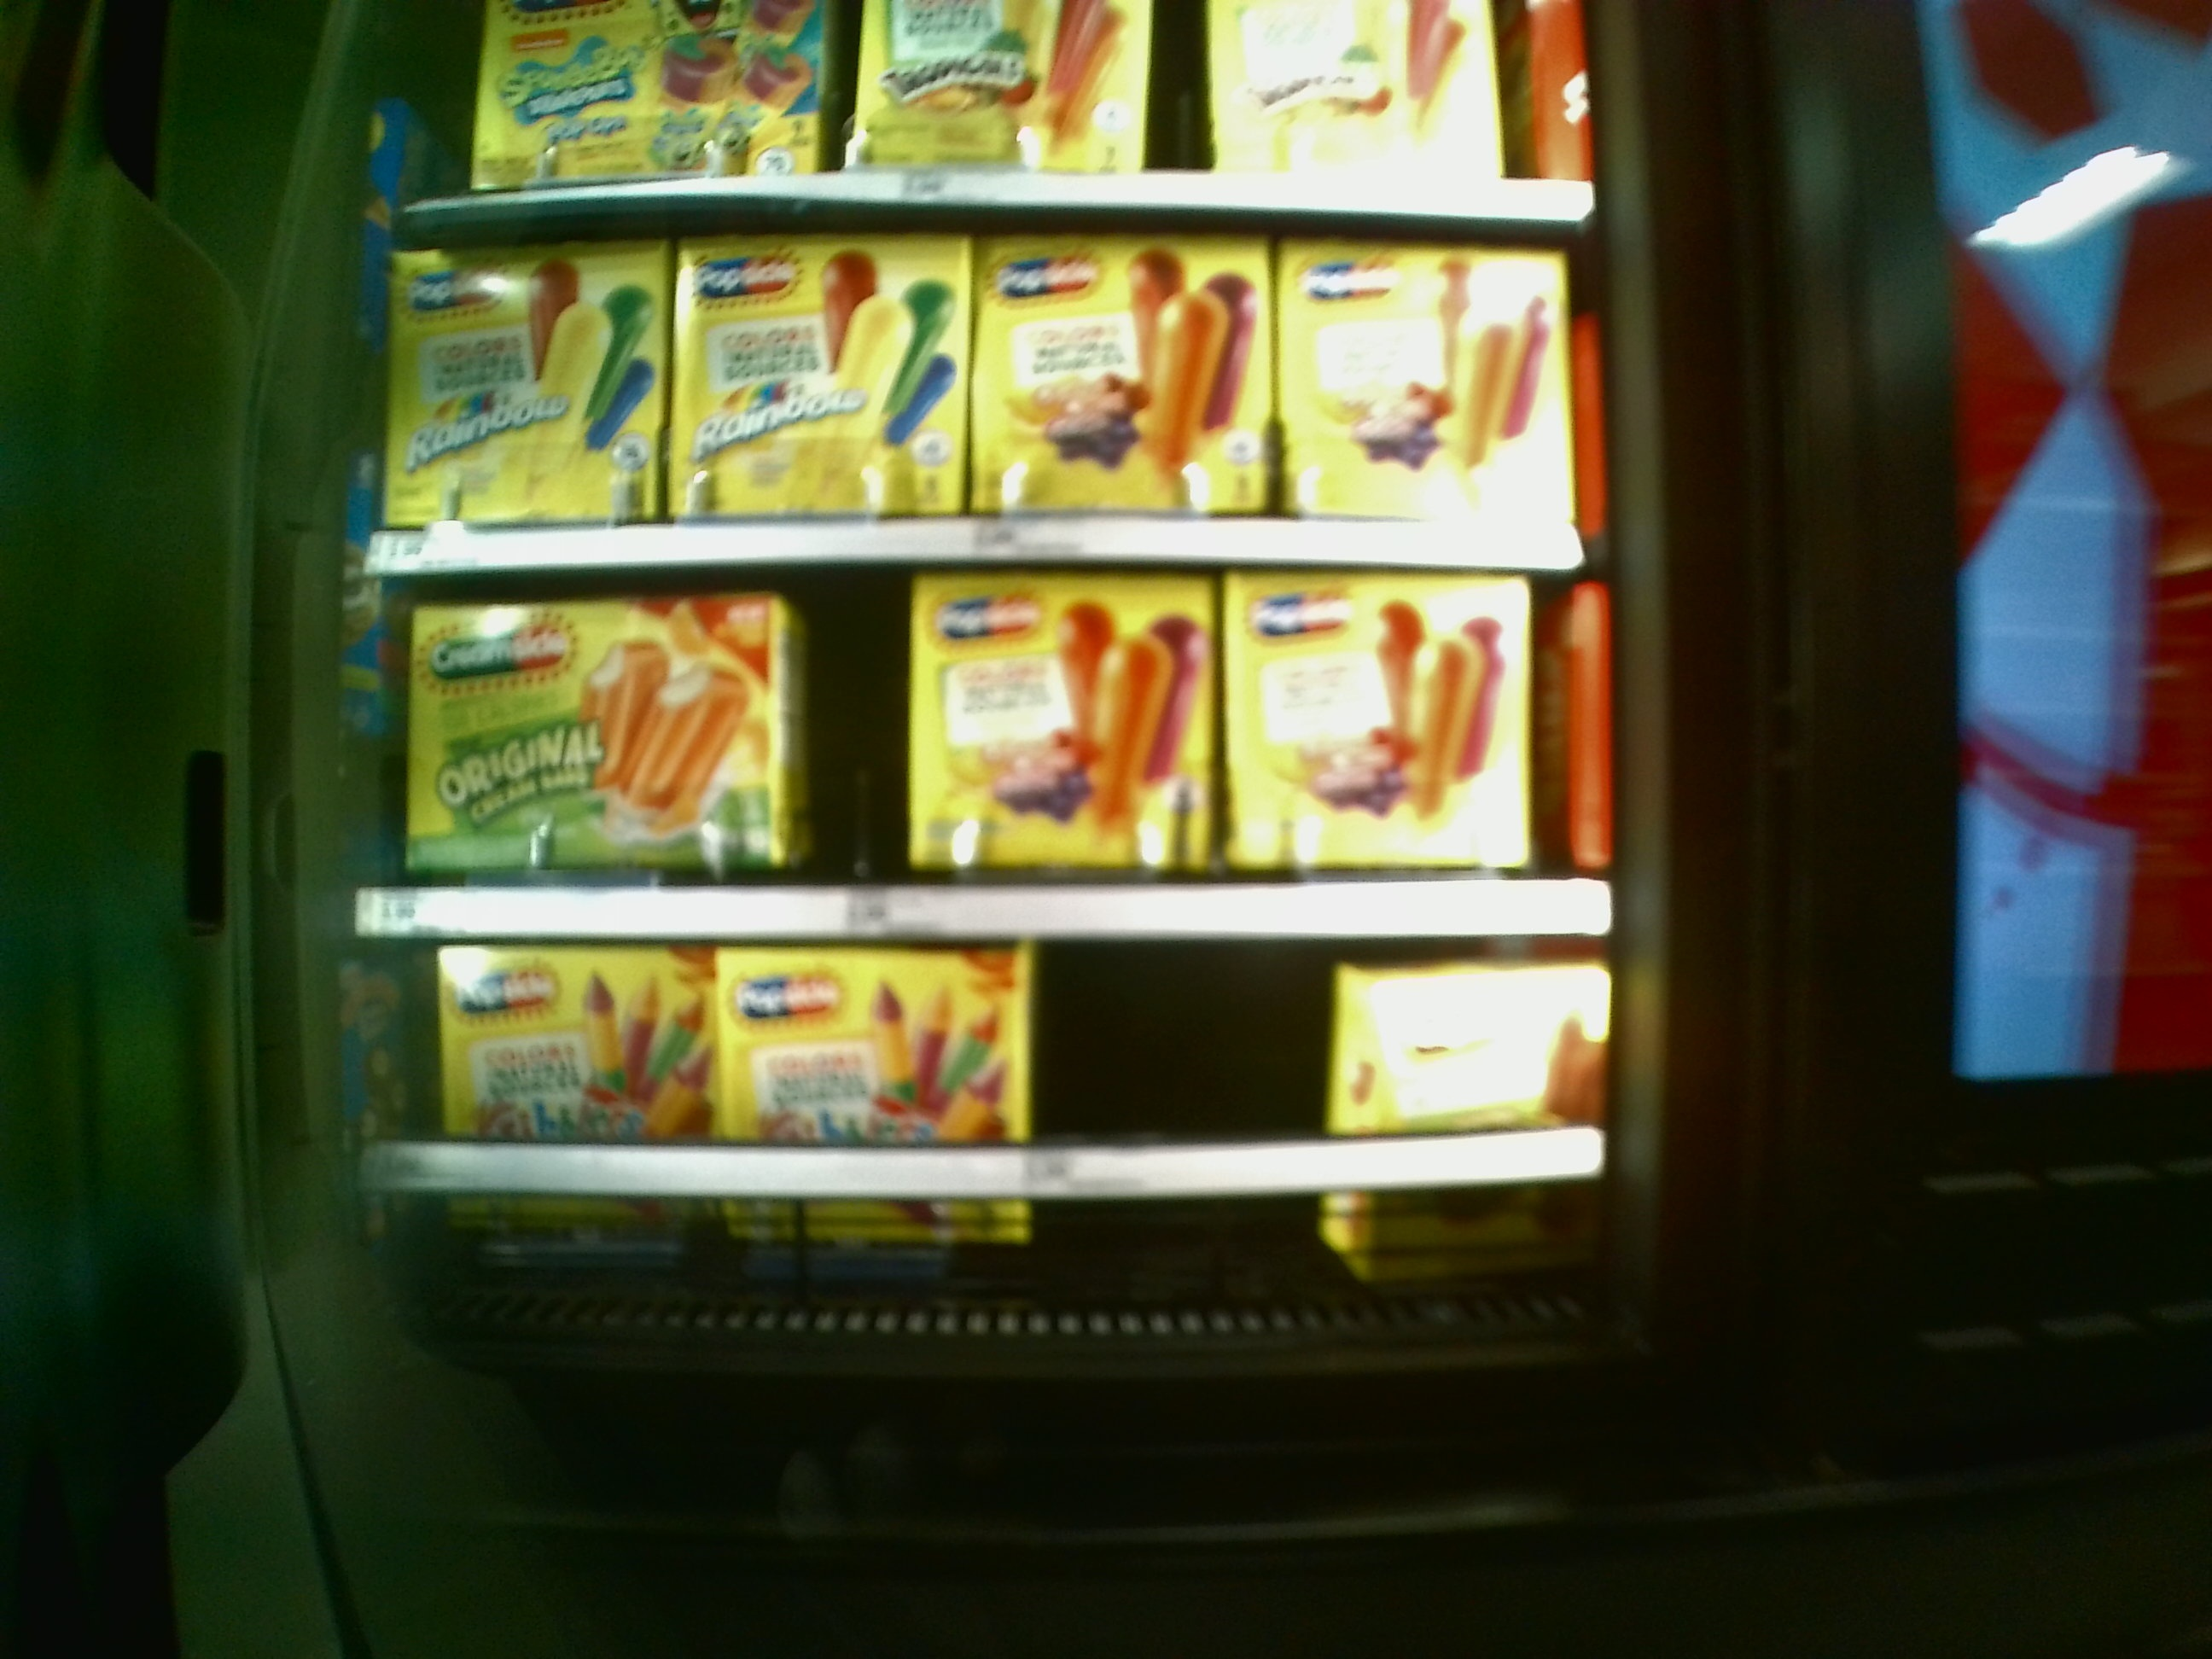shelf: (394, 575, 1594, 953), (399, 953, 1594, 1328), (381, 227, 1602, 572)
